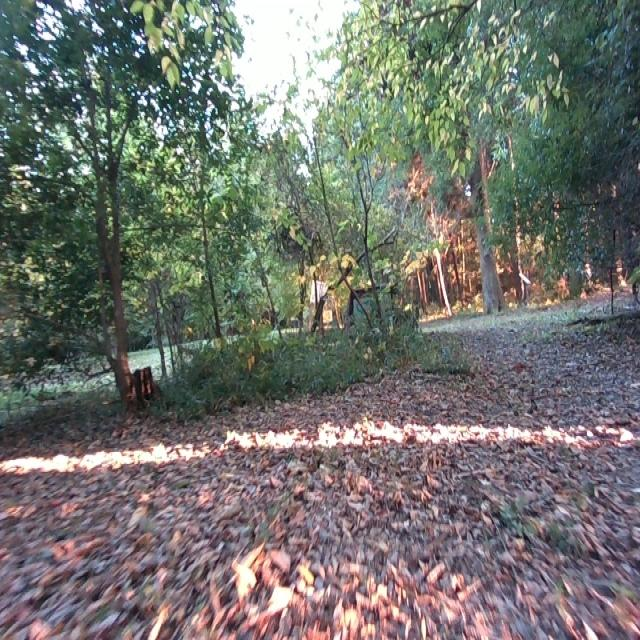bush: (155, 284, 445, 416)
tree: (60, 0, 144, 410)
